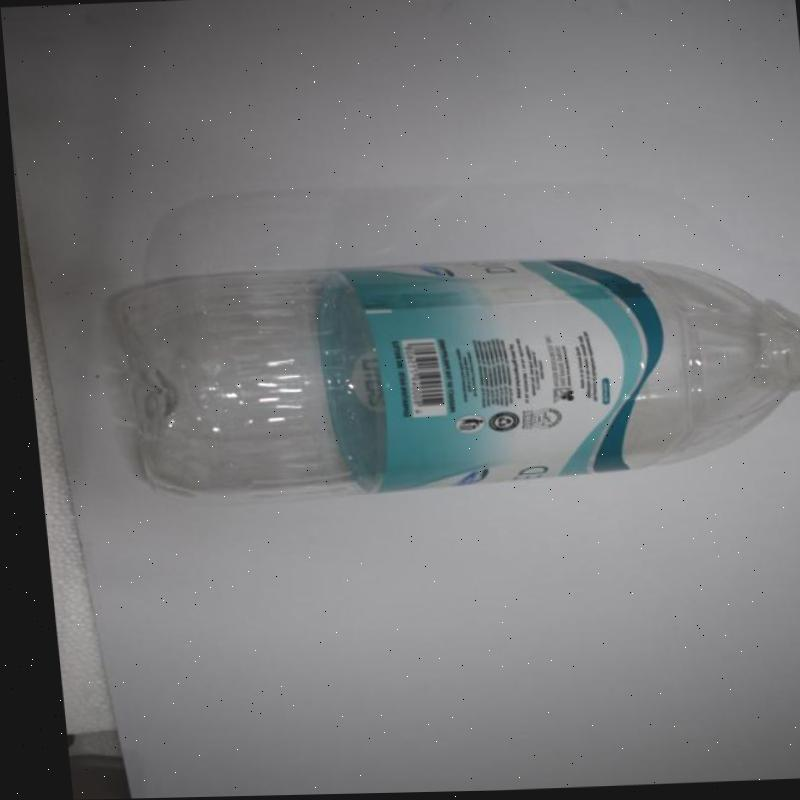botella: (93, 247, 800, 503)
